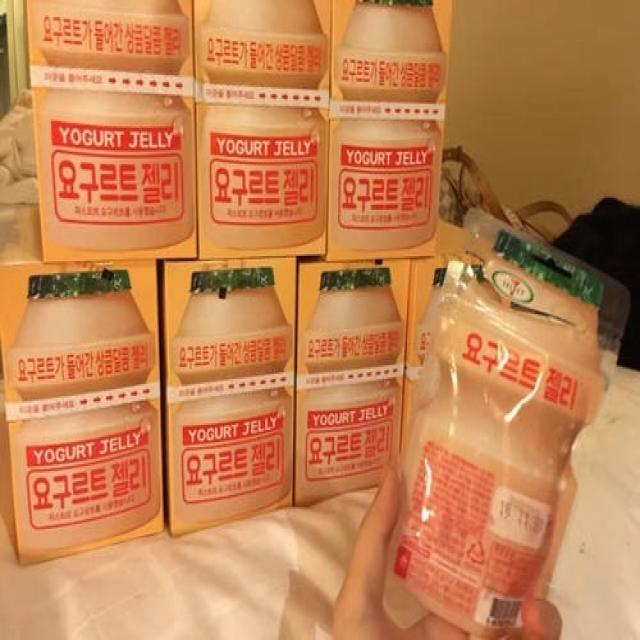box: (0, 87, 161, 563), (24, 2, 196, 257), (161, 259, 297, 537), (193, 1, 333, 255), (329, 2, 453, 262), (296, 258, 410, 507), (401, 254, 446, 456)
